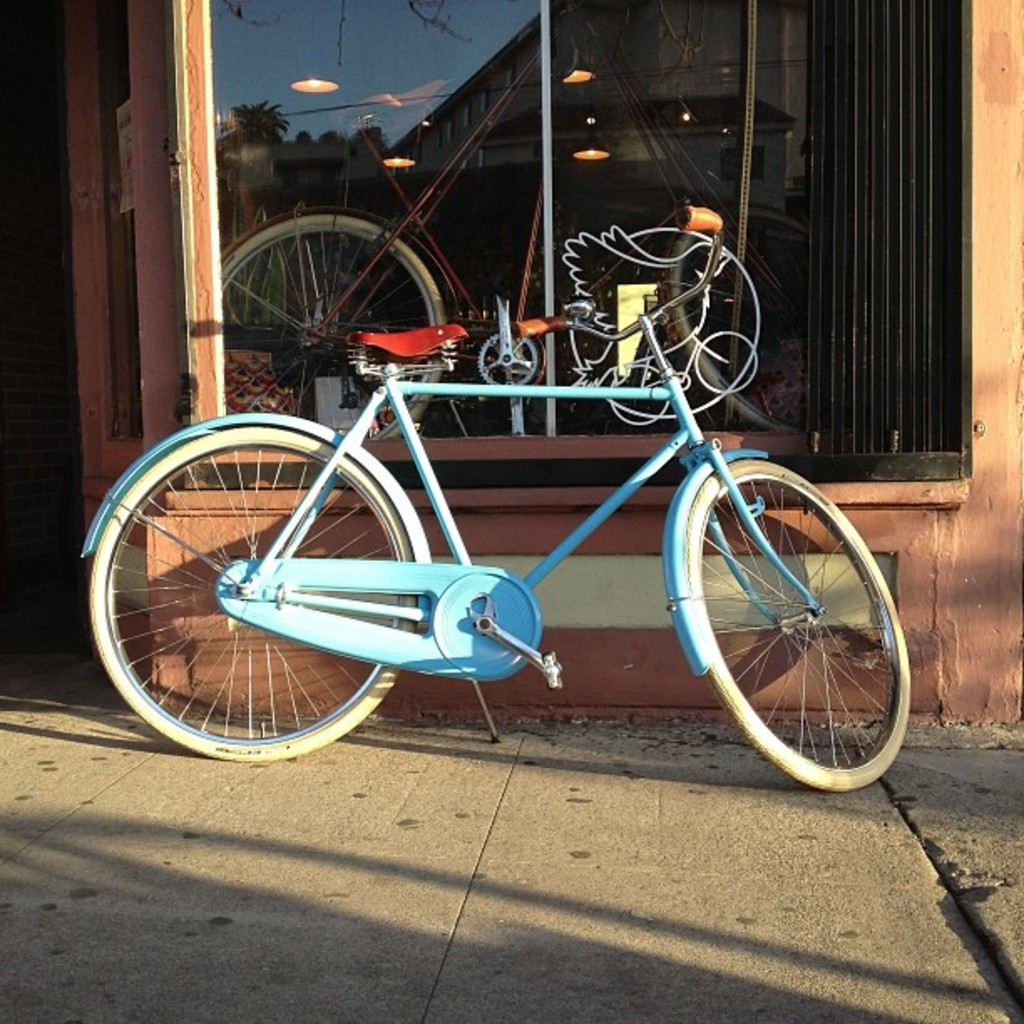Bike: (89, 276, 970, 850)
